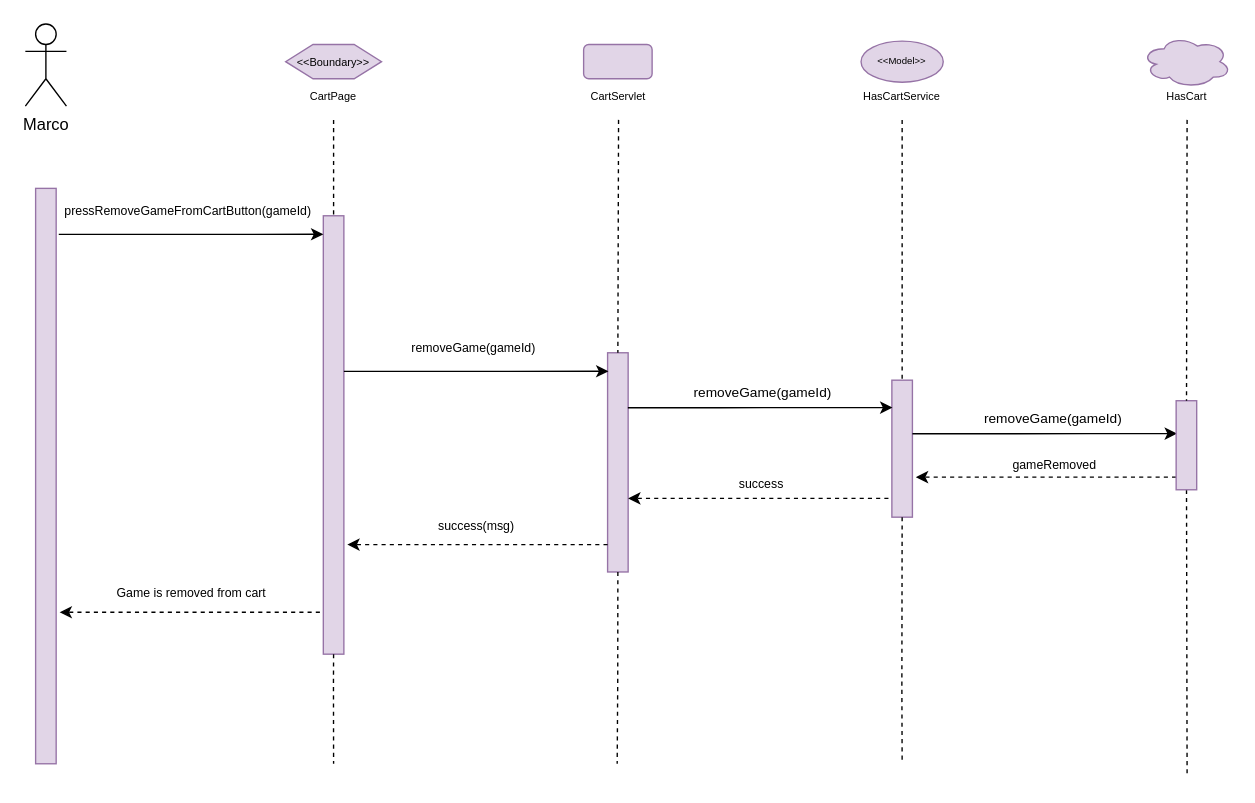
This 1255x803 diagram has some shape labels left out. Each missing label, with the centre of its shape:
"<<Control>>" goes at [617,61].
"<<Entity>>" goes at [1186,61].
